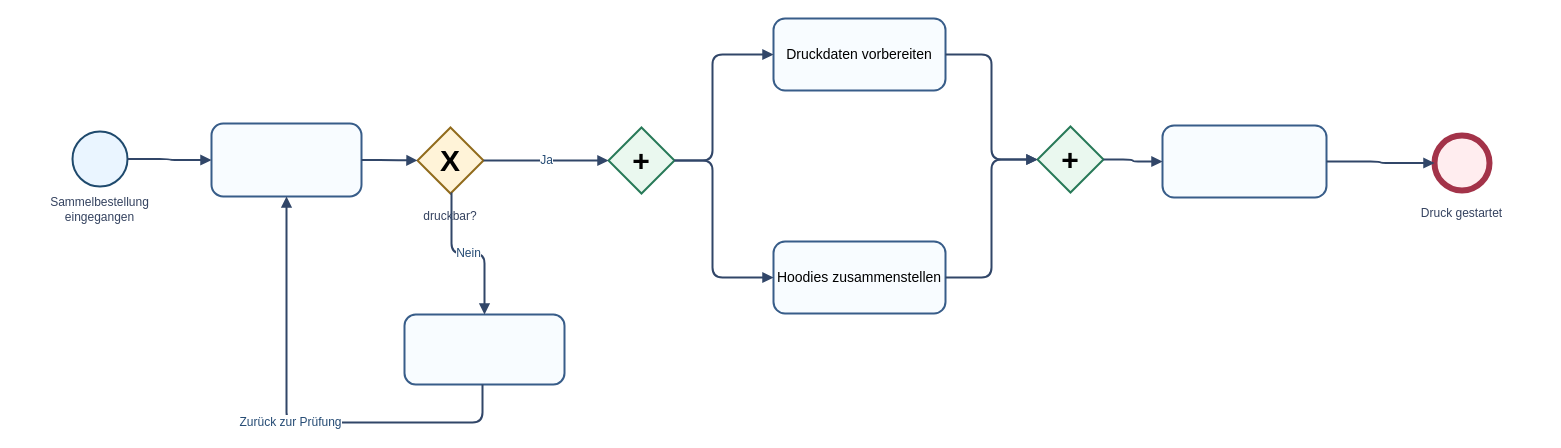
The diagram is 1561 pixels wide and 448 high, and some of its shapes have lost their labels. The shapes that lost their labels are listed below. From the top down, each one's box as (x1, y1, x2, y2) in pixels, then its label:
(210, 122, 362, 197): Druckdatei prüfen
(1161, 124, 1327, 198): Druck starten
(403, 313, 565, 385): Druckdatei überarbeiten
